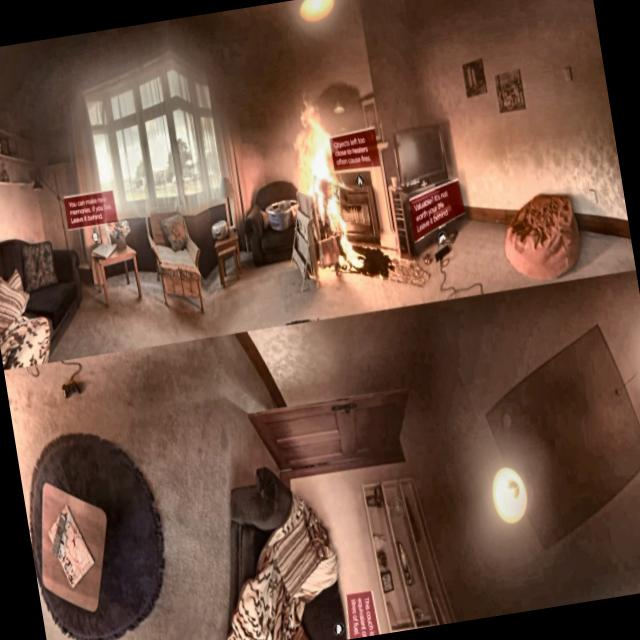fire: (268, 85, 377, 288)
